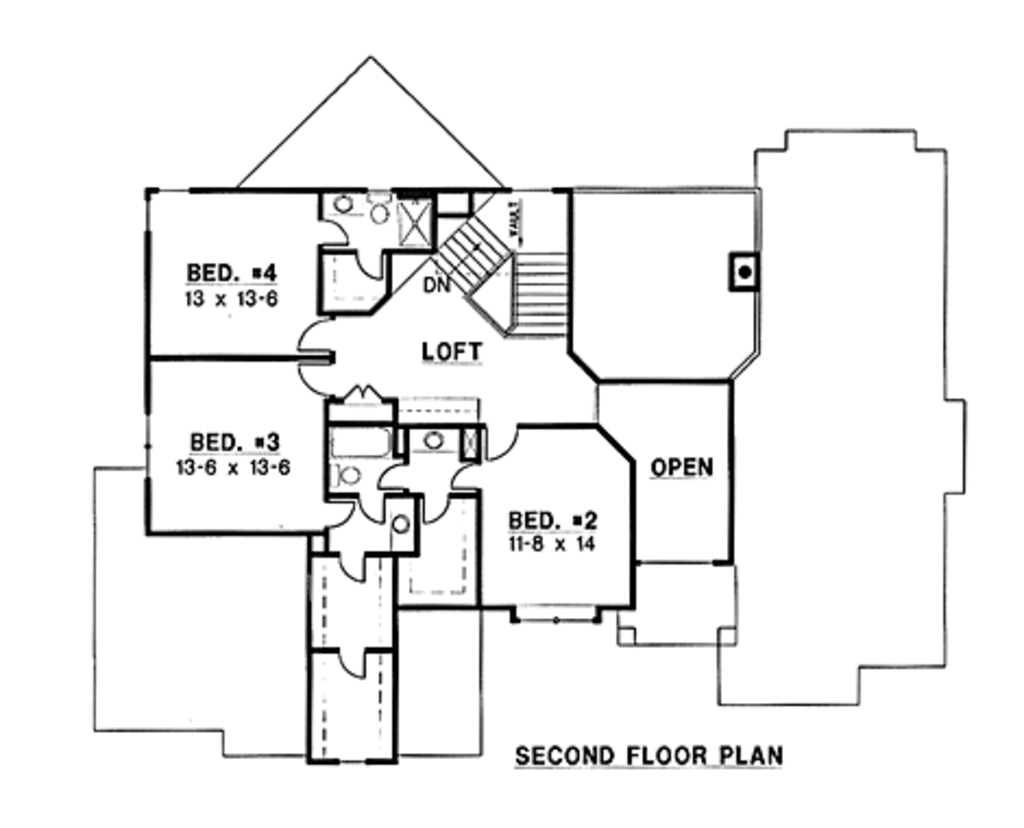door: (293, 309, 336, 356), (291, 364, 337, 404), (336, 372, 383, 404), (418, 488, 452, 532), (315, 497, 356, 531), (314, 217, 353, 252), (373, 464, 418, 493), (336, 643, 368, 683), (448, 460, 486, 491), (357, 247, 390, 282), (359, 490, 387, 531), (338, 552, 372, 581)
large_sink: (361, 190, 396, 229), (331, 461, 360, 495)
small_sink: (383, 495, 411, 549), (413, 425, 456, 451), (327, 192, 363, 214)
stairs: (492, 196, 577, 336), (422, 197, 522, 302)
tub: (319, 422, 402, 464)
